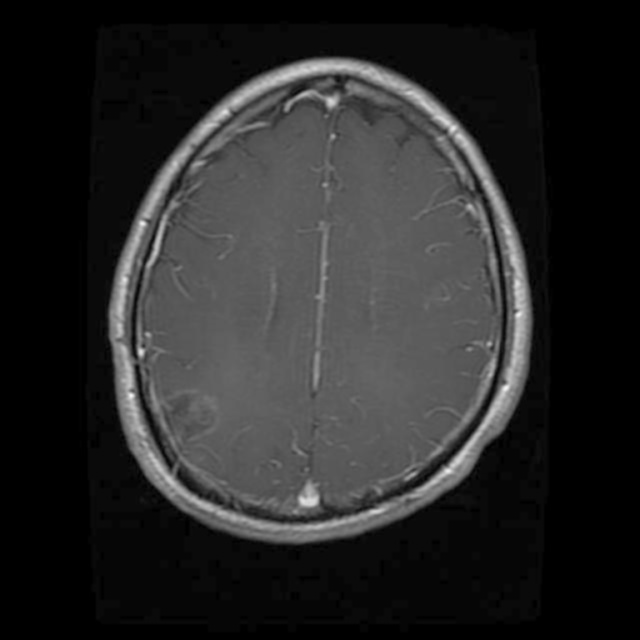pituitary tumor: (160, 388, 219, 442)
